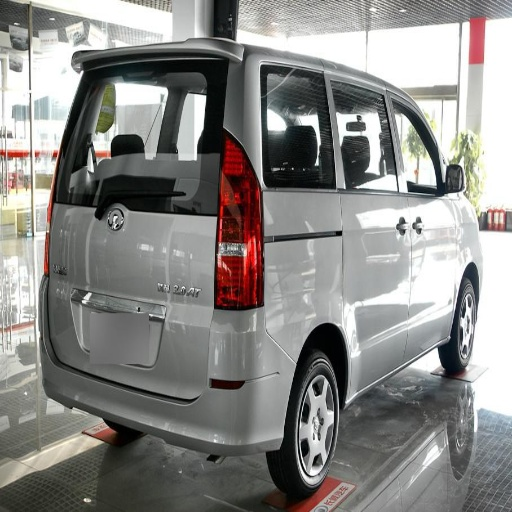back_bumper: (40, 309, 296, 457)
back_glass: (65, 63, 216, 207)
back_right_door: (262, 65, 400, 242)
tailgate: (45, 245, 150, 382)
trunk: (62, 170, 245, 398), (287, 251, 338, 355)
